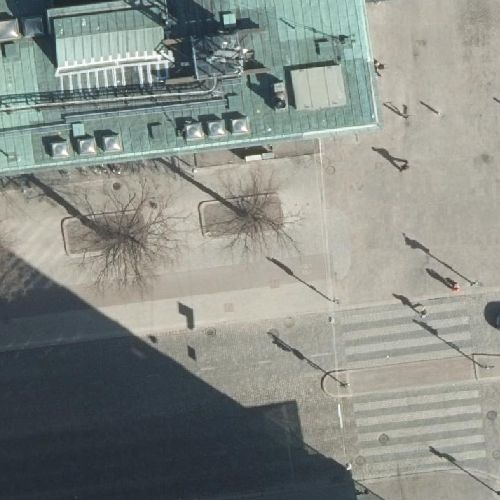crossroad: (344, 390, 491, 479), (333, 291, 484, 365)
